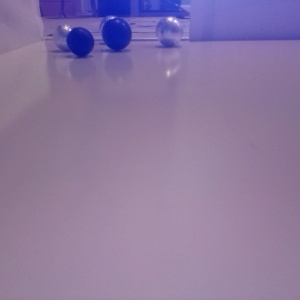alive_ball: (156, 16, 183, 47), (99, 15, 122, 43), (54, 24, 75, 52)
dead_ball: (102, 18, 132, 50), (66, 27, 95, 56)
